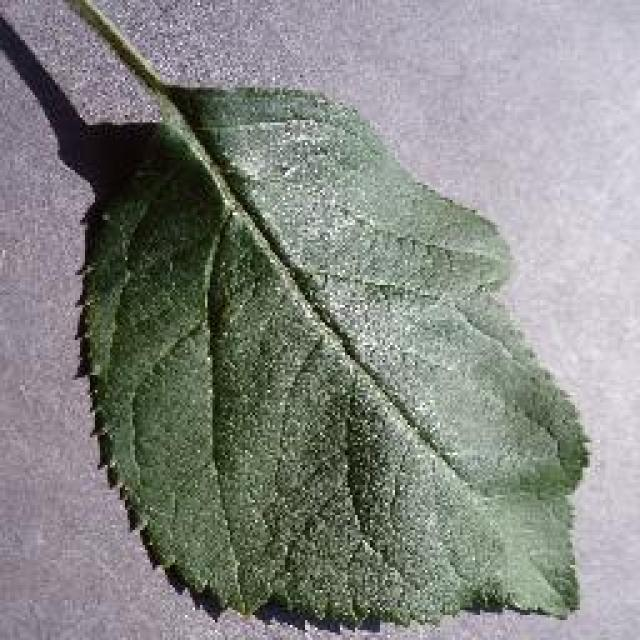apple healthy: (0, 0, 592, 630)
